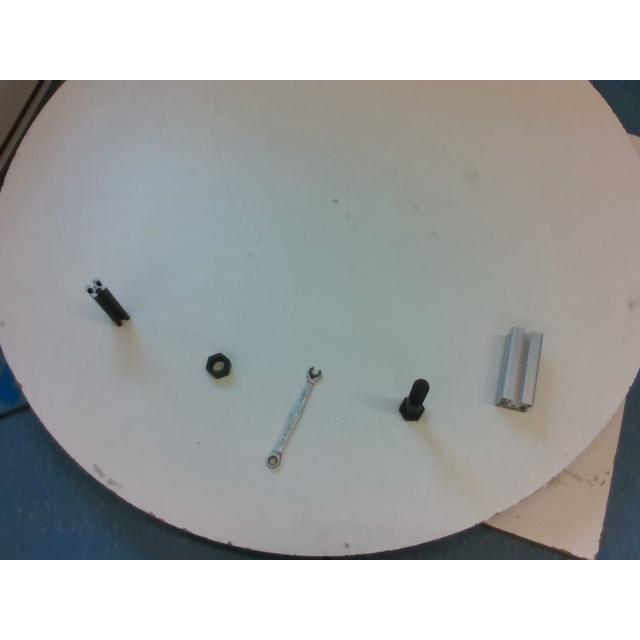F20_20_B: (86, 279, 130, 325)
M20: (206, 354, 230, 378)
M20_100: (399, 378, 429, 420)
S40_40_G: (495, 326, 541, 409)
Wrench: (265, 366, 321, 469)
